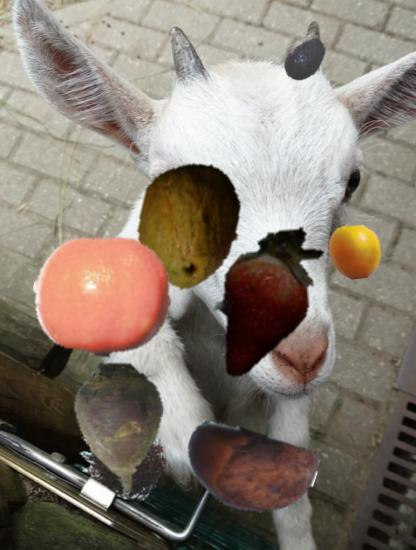Avocado: (280, 34, 331, 85)
Beetroot: (49, 360, 189, 500)
Cherry: (327, 223, 383, 279)
Chestnut: (182, 405, 315, 538)
Clementine: (33, 227, 171, 365)
Papaya: (124, 160, 256, 292)
Rambutan: (79, 410, 169, 500)
Strawberry: (197, 228, 345, 376)
